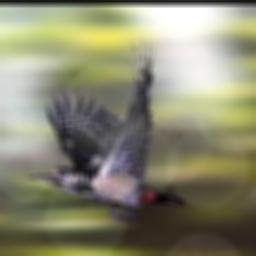Woodpecker: (27, 37, 186, 220)
